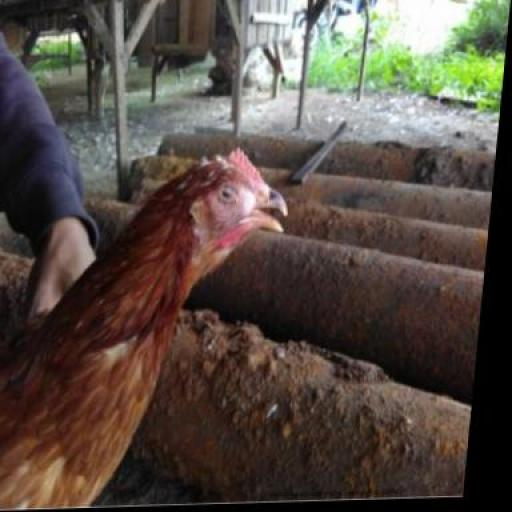disease: (200, 177, 264, 247)
